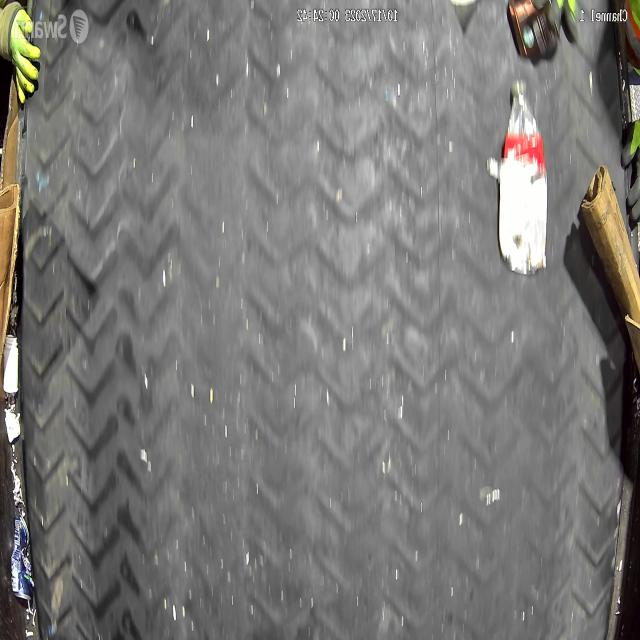can: (10, 514, 33, 601)
plastic_bottle: (500, 80, 546, 251)
